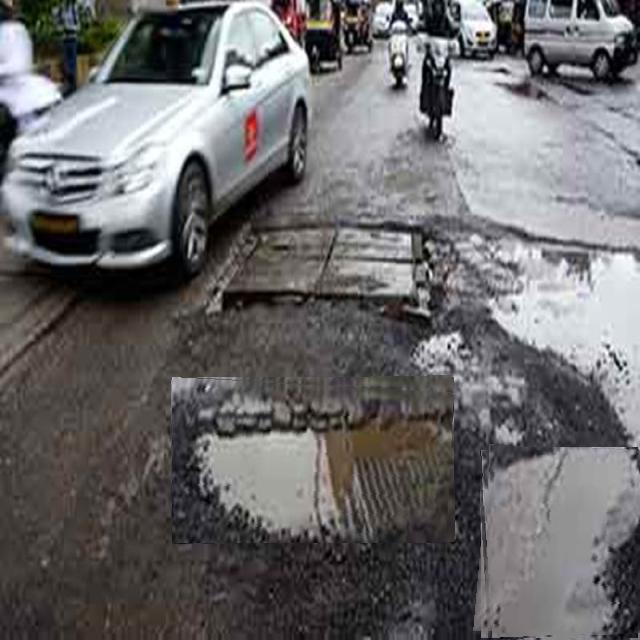Pothole: (172, 376, 454, 543), (477, 447, 640, 640)
